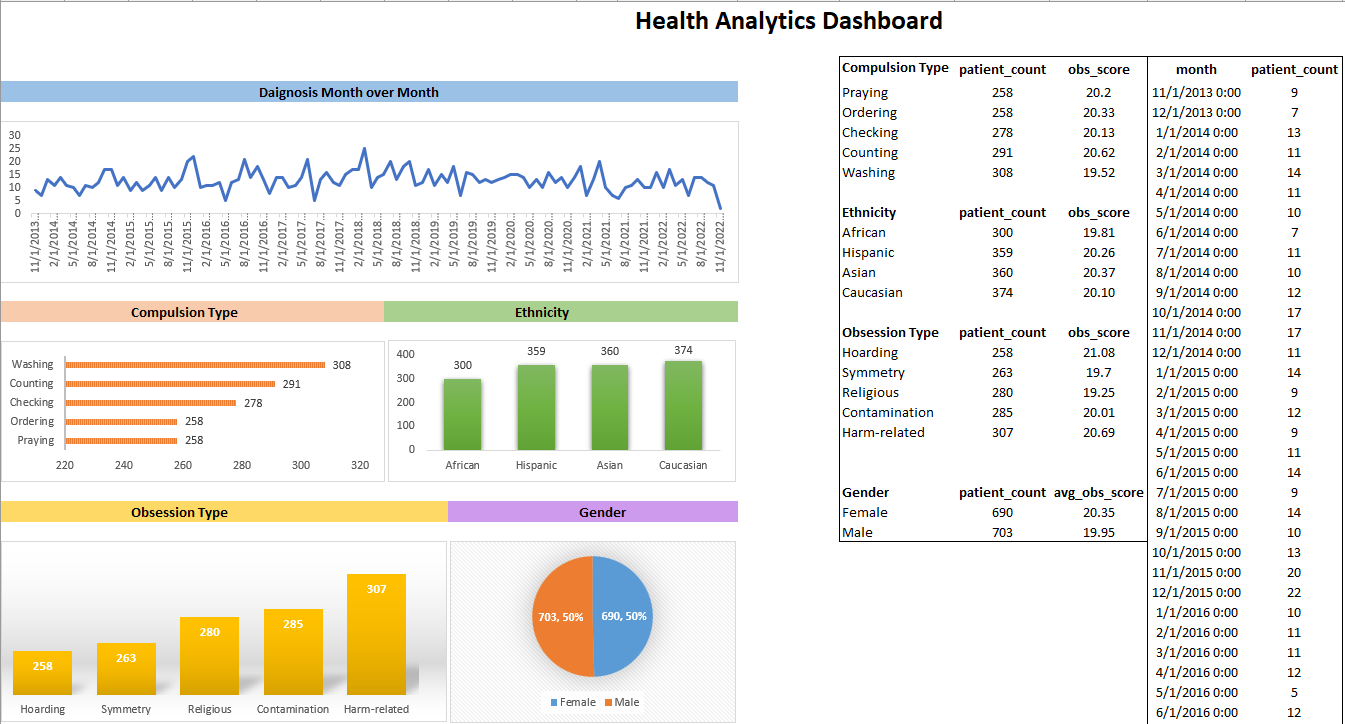

This screenshot's page, from the dashboard's own definition file:
{"tool":"powerbi","page":{"name":"Page 1","canvas":[1280,720],"ordinal":0},"visuals":[{"type":"textbox","box":[0,0,1280.2,53.5],"z":0},{"type":"lineClusteredColumnComboChart","title":"Sum of patient''s count by Year and Month","fields":{"Y2":["Sum(diagnosis month over month.patient_count)"],"Category":["diagnosis month over month.month.Variation.Date Hierarchy.Year","diagnosis month over month.month.Variation.Date Hierarchy.Month"]},"box":[0,53.5,1280.2,254.9],"z":1000},{"type":"donutChart","title":"Sum of patient''s count by Gender","fields":{"Category":["gender.Gender"],"Y":["Sum(gender.patient_count)"]},"box":[0,308.4,355,179.8],"z":2000},{"type":"clusteredBarChart","title":"Sum of patient''s count by Ethnicity and patient count","fields":{"Category":["ethnicity.Ethnicity"],"Y":["Sum(ethnicity.patient_count)"]},"box":[355,308.4,925.2,179.8],"z":3000},{"type":"columnChart","title":"Sum of patient''s count by Compulsion Type","fields":{"Category":["Compulsion type.Compulsion Type"],"Y":["Sum(Compulsion type.patient_count)"]},"box":[925.2,488.2,355,232.1],"z":4000},{"type":"lineChart","title":"Obsession count against  average of obsession score","fields":{"Category":["obsessions type.Obsession Type"],"Y":["Sum(obsessions type.obs_score)","Sum(obsessions type.patient_count)"]},"box":[0,488.2,925.2,232.1],"z":5000}]}

Visuals, with their boxes on the page's 1280x720 design canvas (x1, y1, x2, y2). These are canvas units, not pixel positions in the 1345x724 screenshot, which may show the page scaled, cropped or inside an application window:
textbox: box=[0, 0, 1280, 54]
"Sum of patient''s count by Year and Month" lineClusteredColumnComboChart: box=[0, 54, 1280, 308]
"Sum of patient''s count by Gender" donutChart: box=[0, 308, 355, 488]
"Sum of patient''s count by Ethnicity and patient count" clusteredBarChart: box=[355, 308, 1280, 488]
"Sum of patient''s count by Compulsion Type" columnChart: box=[925, 488, 1280, 720]
"Obsession count against  average of obsession score" lineChart: box=[0, 488, 925, 720]
